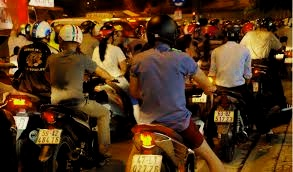Bien-so: (120, 149, 152, 168), (29, 118, 55, 134), (205, 114, 225, 128), (9, 104, 26, 119), (185, 96, 200, 106), (245, 90, 251, 101), (279, 70, 285, 76)
